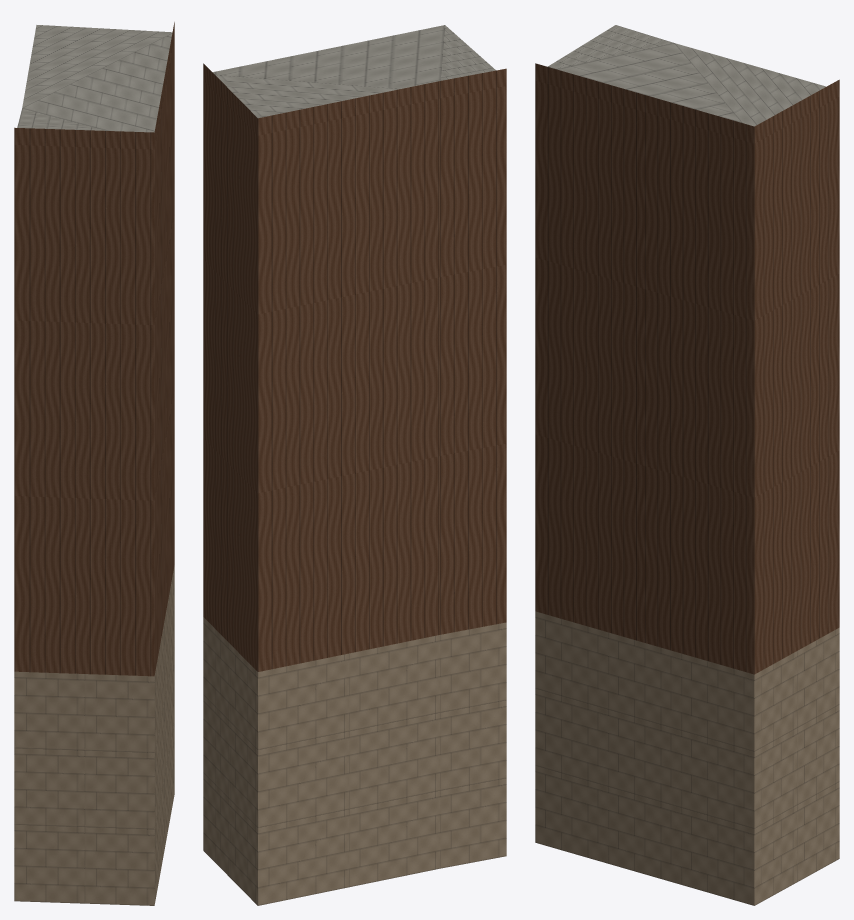
The model's file is bld_c-1_-2_543.gltf.
3 views of the same model, side by side, from view 1: azimuth 30°, elevation 25°; view 2: azimuth 150°, elevation 25°; view 3: azimuth 270°, elevation 25° (orthographic).
Parts seen in each view (by area): view 1: bld_c-1_-2_543; view 2: bld_c-1_-2_543; view 3: bld_c-1_-2_543.
Part boxes in pixels (x1,y1,x2,y2): bld_c-1_-2_543: (14,22,174,905); bld_c-1_-2_543: (203,25,506,905); bld_c-1_-2_543: (535,25,839,905).
Size of the model in its own units: 5.32 by 17.18 by 6.08.
Materials: 4 (4 with a texture image).
